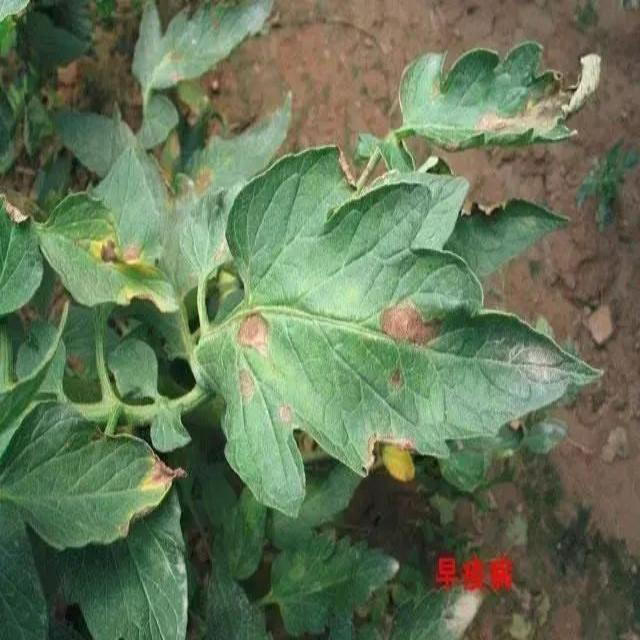Early_blight: (472, 54, 601, 134), (376, 297, 443, 346), (363, 431, 418, 485), (228, 308, 274, 356), (91, 235, 144, 272), (137, 452, 187, 491), (235, 366, 256, 401), (278, 401, 296, 425), (388, 367, 404, 387)
